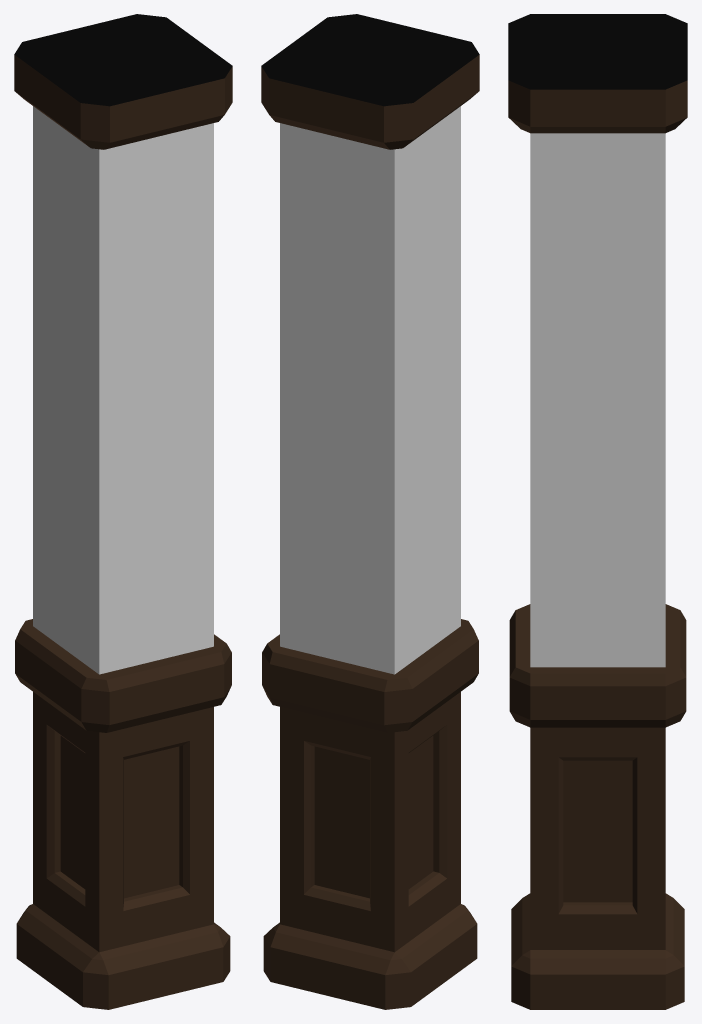
The model's file is Wall_01_Pillar.fbx.
3 views of the same model, side by side, from view 1: azimuth 30°, elevation 25°; view 2: azimuth 150°, elevation 25°; view 3: azimuth 270°, elevation 25° (orthographic).
Visible parts, largest first — view 1: Cube.024; view 2: Cube.024; view 3: Cube.024.
Boxes of the visible parts, bbox=[...] form: Cube.024: bbox=[14, 14, 232, 1009]; Cube.024: bbox=[261, 14, 479, 1009]; Cube.024: bbox=[508, 14, 687, 1009].
Size of the model in its own units: 0.5302 by 0.5303 by 3.01.
